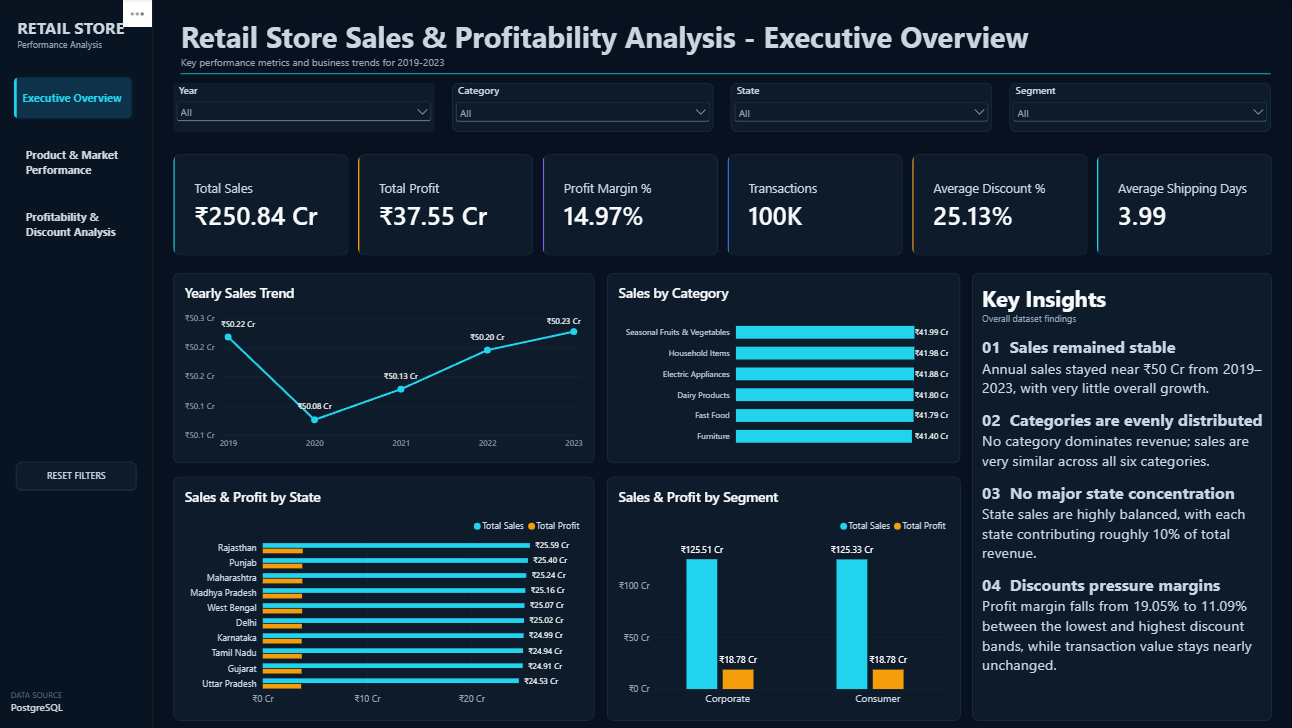

Layout of this report page (visuals, bound fields, positions):
{"tool":"powerbi","page":{"name":"Executive Overview","canvas":[1920,1080],"ordinal":0},"visuals":[{"type":"shape","box":[0,0,230,1080],"z":0},{"type":"textbox","box":[25.8,23.9,178.5,76],"z":1000},{"type":"pageNavigator","box":[20.2,112.3,189.6,262],"z":2000},{"type":"textbox","box":[270.6,27.6,1604.9,57.1],"z":3000},{"type":"textbox","box":[270,85,950,28],"z":4000},{"type":"slicer","fields":{"Values":["DimDate.Year"]},"box":[260,125,385,72],"z":5000},{"type":"slicer","fields":{"Values":["FactSales.category"]},"box":[670,125,385,72],"z":6000},{"type":"slicer","fields":{"Values":["FactSales.state"]},"box":[1080,125,385,72],"z":7000},{"type":"slicer","fields":{"Values":["FactSales.segment"]},"box":[1490,125,385,72],"z":8000},{"type":"cardVisual","fields":{"Data":["FactSales.Total Sales","FactSales.Total Profit","FactSales.Profit Margin %","FactSales.Transactions","FactSales.Average Discount %","FactSales.Average Shipping Days"]},"box":[259.5,230.1,1618,149.1],"z":9000},{"type":"lineChart","title":"Yearly Sales Trend","fields":{"Category":["DimDate.Year"],"Y":["FactSales.Total Sales"]},"box":[260,405,620,280],"z":10000},{"type":"clusteredBarChart","title":"Sales by Category","fields":{"Category":["FactSales.category"],"Y":["FactSales.Total Sales"]},"box":[899,404.9,520,280],"z":11000},{"type":"clusteredBarChart","title":"Sales & Profit by State","fields":{"Category":["FactSales.state"],"Y":["FactSales.Total Sales","FactSales.Total Profit"]},"box":[259.5,704.9,620.2,359],"z":12000},{"type":"clusteredColumnChart","title":"Sales & Profit by Segment","fields":{"Category":["FactSales.segment"],"Y":["FactSales.Total Sales","FactSales.Total Profit"]},"box":[898.2,704.9,520.9,358.9],"z":13000},{"type":"textbox","box":[1435.6,404.9,441.7,658.9],"z":14000},{"type":"textbox","box":[20.2,1016,110.4,47.9],"z":16000},{"type":"shape","box":[270.6,88.3,1604.9,46],"z":17000},{"type":"actionButton","box":[27.6,682.8,178.7,42.8],"z":18000}]}

Visuals, with their boxes on the page's 1920x1080 design canvas (x1, y1, x2, y2). These are canvas units, not pixel positions in the 1292x728 screenshot, which may show the page scaled, cropped or inside an application window:
shape: 0, 0, 230, 1080
textbox: 26, 24, 204, 100
pageNavigator: 20, 112, 210, 374
textbox: 271, 28, 1876, 85
textbox: 270, 85, 1220, 113
slicer - DimDate.Year: 260, 125, 645, 197
slicer - FactSales.category: 670, 125, 1055, 197
slicer - FactSales.state: 1080, 125, 1465, 197
slicer - FactSales.segment: 1490, 125, 1875, 197
cardVisual - FactSales.Total Sales x FactSales.Total Profit: 260, 230, 1878, 379
"Yearly Sales Trend" lineChart: 260, 405, 880, 685
"Sales by Category" clusteredBarChart: 899, 405, 1419, 685
"Sales & Profit by State" clusteredBarChart: 260, 705, 880, 1064
"Sales & Profit by Segment" clusteredColumnChart: 898, 705, 1419, 1064
textbox: 1436, 405, 1877, 1064
textbox: 20, 1016, 131, 1064
shape: 271, 88, 1876, 134
actionButton: 28, 683, 206, 726
